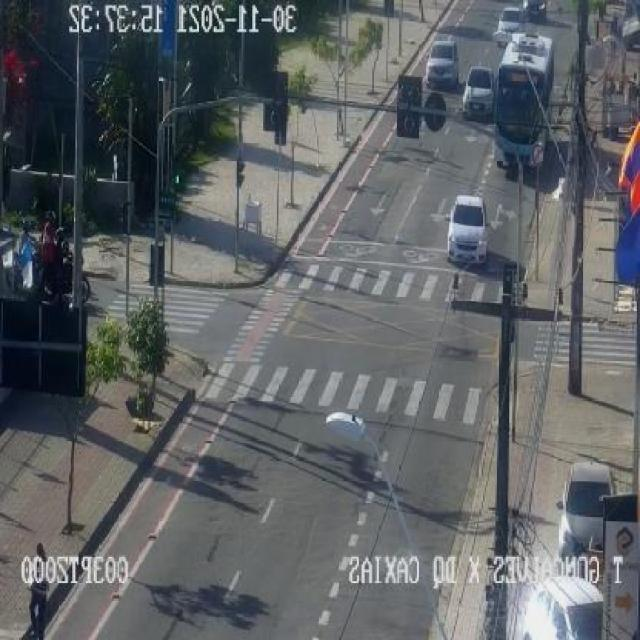Bus: (494, 33, 554, 172)
Car: (557, 459, 617, 564), (514, 576, 602, 639), (446, 195, 488, 264), (424, 38, 460, 89), (461, 66, 495, 119), (495, 7, 523, 44), (524, 0, 547, 22)
Cycle: (40, 255, 91, 308)
